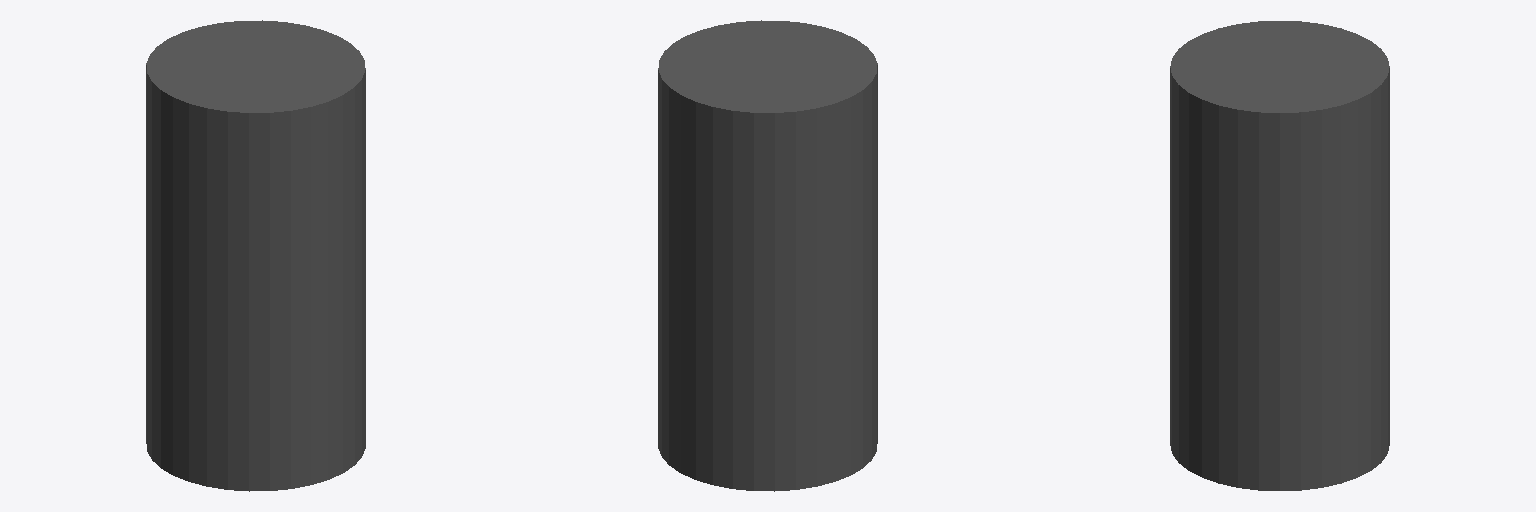
URDF robot description (robot_base):
<?xml version="1.0" ?>
<robot name="robot_base">

  <!-- Simple cylindrical base -->
  <link name="base">
    <visual>
      <geometry>
        <cylinder radius="0.1" length="0.38"/>
      </geometry>
      <origin xyz="0 0 0" rpy="0 0 0"/>
      <material name="DarkGrey">
        <color rgba="0.4 0.4 0.4 1.0"/>
      </material>
    </visual>

    <collision>
      <geometry>
        <cylinder radius="0.1" length="0.38"/>
      </geometry>
      <origin xyz="0 0 0" rpy="0 0 0"/>
    </collision>

    <inertial>
      <mass value="5"/>
      <origin xyz="0 0 0" rpy="0 0 0"/>
      <inertia ixx="0.01" ixy="0" ixz="0"
               iyy="0.01" iyz="0" izz="0.01"/>
    </inertial>
  </link>

</robot>

--- Render facts (derived) ---
The picture shows the robot from 3 angles, left to right: view 1: azimuth 30°, elevation 25°; view 2: azimuth 150°, elevation 25°; view 3: azimuth 270°, elevation 25°; orthographic projection.
Model robot_base with 1 links and 0 joints (none), rooted at base, posed all joints at 0.
Links seen in each view (by area): view 1: base; view 2: base; view 3: base.
Link boxes in pixels (x1,y1,x2,y2): base: (146, 20, 365, 491); base: (658, 20, 877, 491); base: (1170, 21, 1389, 490).
Bounding box of the posed robot: 0.2 × 0.2 × 0.38 m (x, y, z).
Geometry: primitives only (box / cylinder / sphere), no mesh files.
